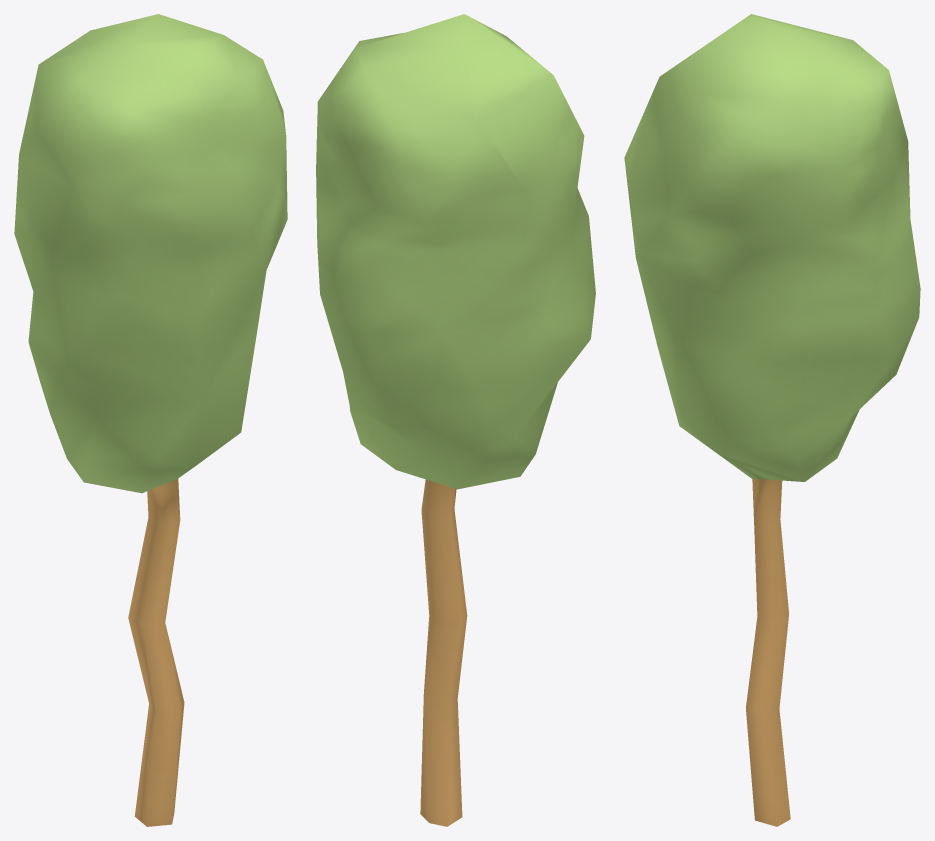
The picture shows the model from 3 angles, left to right: view 1: azimuth 30°, elevation 25°; view 2: azimuth 150°, elevation 25°; view 3: azimuth 270°, elevation 25°; orthographic projection.
Parts seen in each view (by area): view 1: Laza; view 2: Laza; view 3: Laza.
Boxes of the visible parts, x1=… form: Laza: x1=14, y1=14, x2=287, y2=826; Laza: x1=316, y1=14, x2=595, y2=826; Laza: x1=624, y1=14, x2=920, y2=826.
Size of the model in its own units: 2.33 by 7.38 by 2.54.
1 material, 1 textured.
